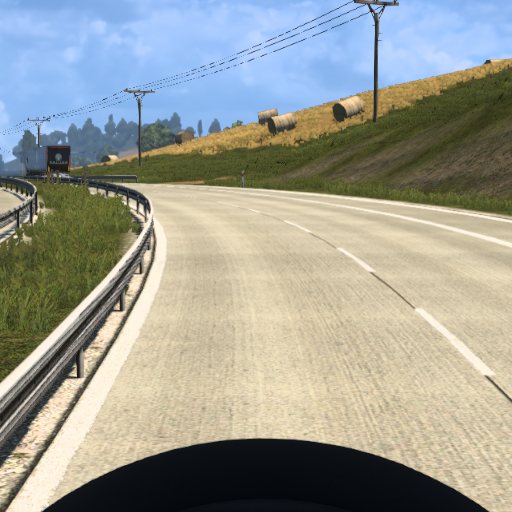markup: (409, 303, 503, 380), (331, 244, 381, 275), (283, 219, 316, 236)
markup_line: (349, 205, 512, 250)
